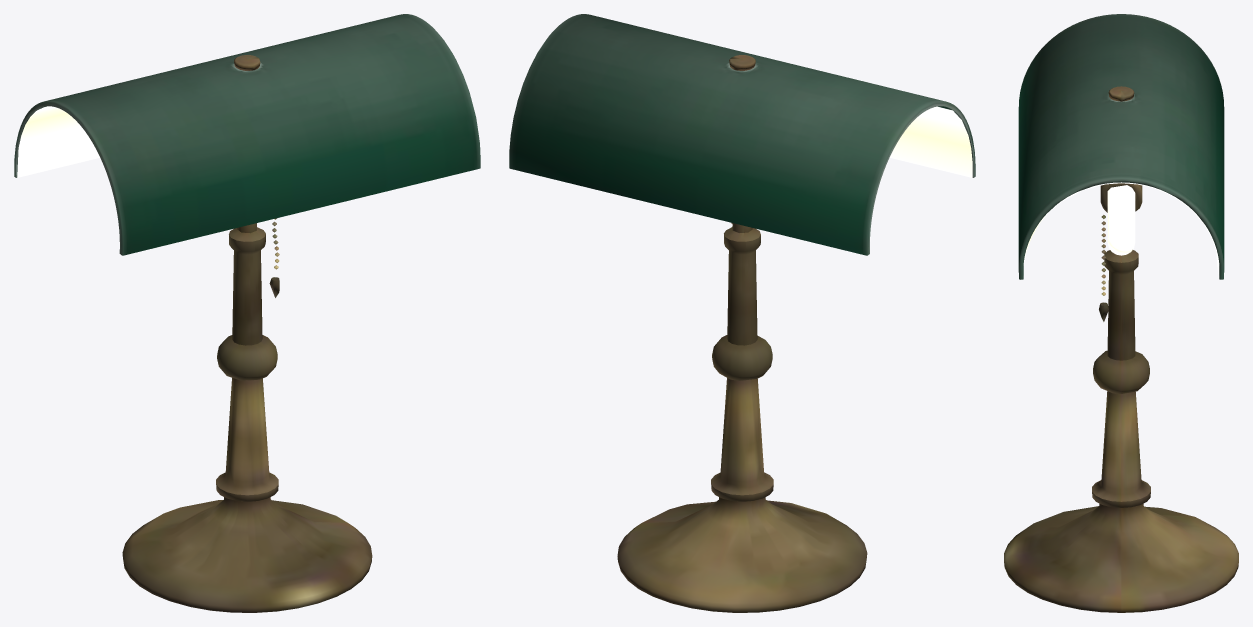
Rendered from banker-lamp.glb.
3 views of the same model, side by side, from view 1: azimuth 30°, elevation 25°; view 2: azimuth 150°, elevation 25°; view 3: azimuth 270°, elevation 25° (orthographic). The views are drawn at different scales.
Parts seen in each view (by area): view 1: shade, lamp_body, shade_glow; view 2: shade, lamp_body, shade_glow; view 3: shade, lamp_body, bulb, shade_glow, pull_chain.
Part boxes in pixels (x1,y1,x2,y2): shade: (14, 14, 480, 255); lamp_body: (122, 55, 372, 612); shade_glow: (17, 106, 99, 177); shade: (509, 14, 975, 255); lamp_body: (617, 55, 867, 612); shade_glow: (870, 106, 972, 241); shade: (1018, 14, 1224, 279); lamp_body: (1004, 86, 1238, 612); bulb: (1107, 185, 1135, 255); shade_glow: (1024, 182, 1218, 277); pull_chain: (1099, 215, 1108, 321).
Size of the model in its own units: 0.3 by 0.4016 by 0.1802.
Materials: 3 (1 with a texture image).
